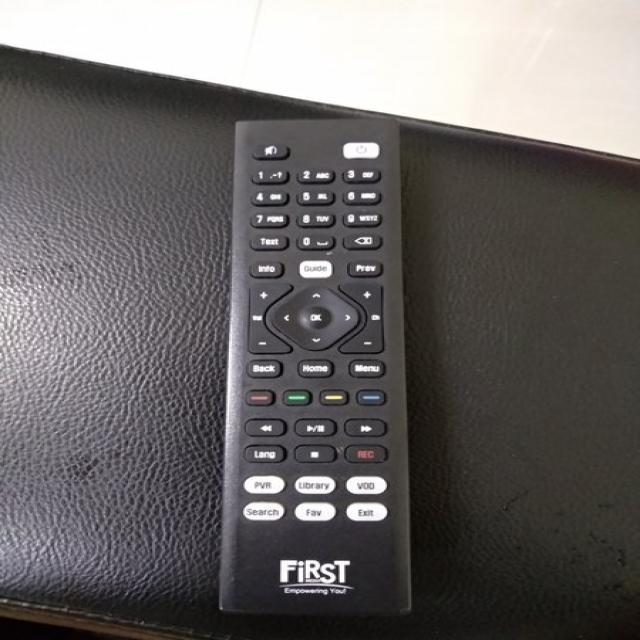remote: (222, 117, 412, 628)
